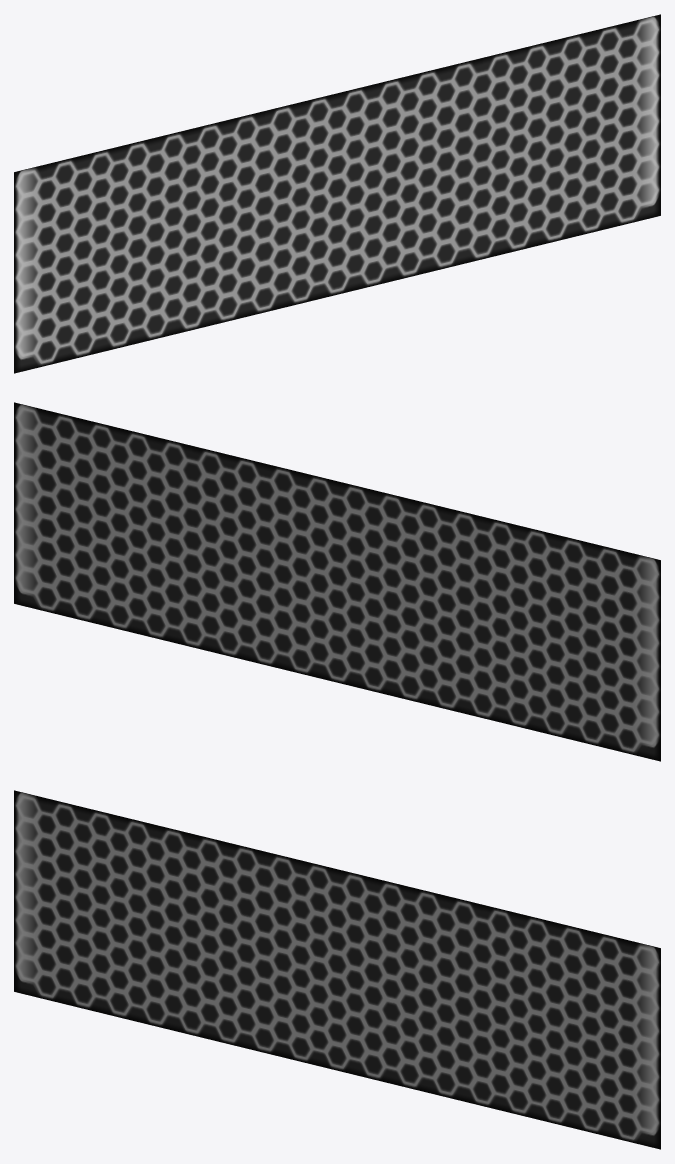
Rendered from FieldXXXLarge.FBX.
3 views of the same model, one above another, from view 1: azimuth 30°, elevation 25°; view 2: azimuth 150°, elevation 25°; view 3: azimuth 330°, elevation 25° (orthographic).
Visible parts, largest first — view 1: ShieldWallFieldXXXLarge; view 2: ShieldWallFieldXXXLarge; view 3: ShieldWallFieldXXXLarge.
Part boxes in pixels (bbox=[...]): ShieldWallFieldXXXLarge: bbox=[14, 14, 660, 373]; ShieldWallFieldXXXLarge: bbox=[14, 402, 660, 761]; ShieldWallFieldXXXLarge: bbox=[14, 790, 660, 1149].
Bounding box in the file's own units: 912 × 0.00016 × 271.
